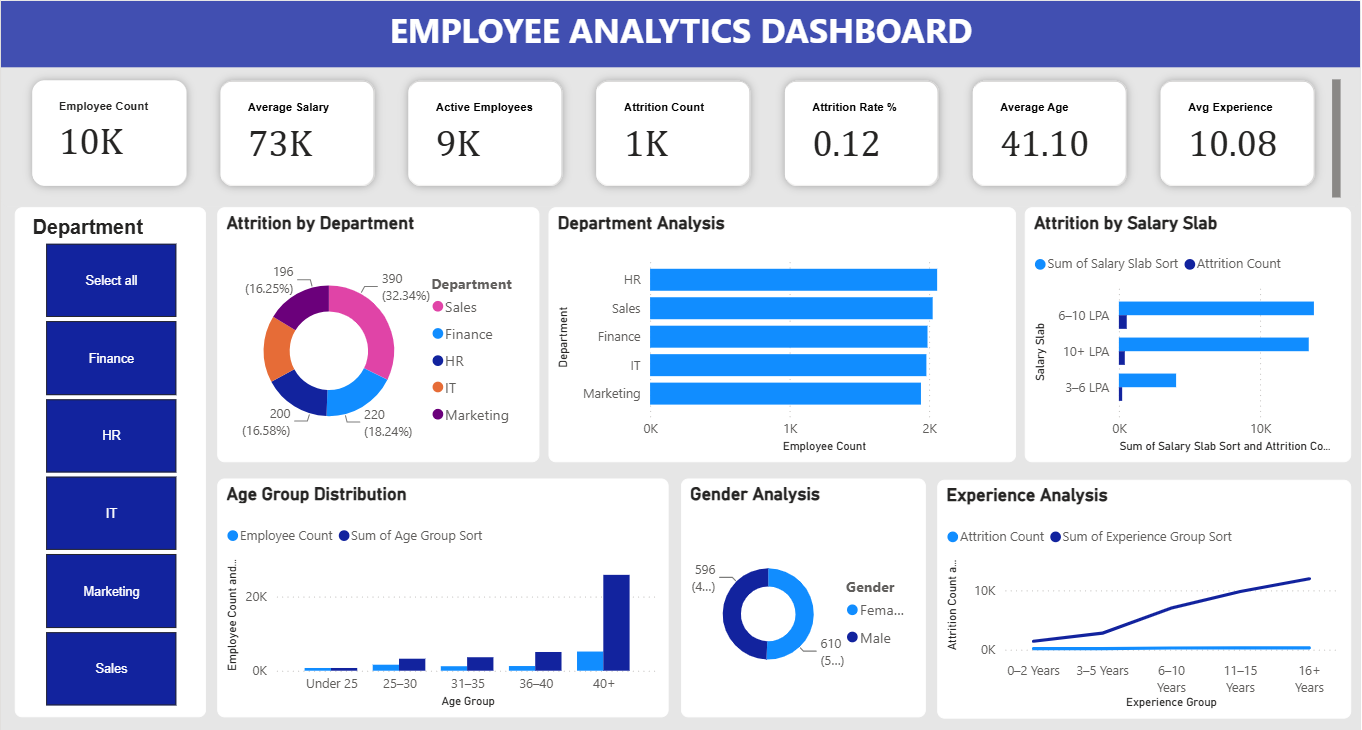

What the dashboard file says about the page in this screenshot:
{"tool":"powerbi","page":{"name":"Page 1","canvas":[1280,720],"ordinal":0},"visuals":[{"type":"cardVisual","fields":{"Data":["employee_data_cleaned.Employee Count","employee_data_cleaned.Average Salary","employee_data_cleaned.Active Employees","employee_data_cleaned.Attrition Count","employee_data_cleaned.Attrition Rate %","employee_data_cleaned.Average Age","employee_data_cleaned.Average Experience"]},"box":[0,52.9,1280,141.2],"z":0},{"type":"barChart","title":"Department Analysis","fields":{"Category":["employee_data_cleaned.Department"],"Y":["employee_data_cleaned.Employee Count"]},"box":[515.3,194.1,440,196.5],"z":1000},{"type":"donutChart","title":"Gender Analysis","fields":{"Category":["employee_data_cleaned.Gender"],"Y":["employee_data_cleaned.Attrition Count"]},"box":[640,404.7,230.6,224.7],"z":2000},{"type":"clusteredBarChart","title":"Attrition by Salary Slab","fields":{"Y":["employee_data_cleaned.Attrition Count","Sum(employee_data_cleaned.Salary Slab Sort)"],"Category":["employee_data_cleaned.Salary Slab"]},"box":[963.5,194.1,307.1,197.6],"z":3000},{"type":"donutChart","title":"Attrition by Department","fields":{"Category":["employee_data_cleaned.Department"],"Y":["employee_data_cleaned.Attrition Count"]},"box":[203.5,194.1,303.5,197.6],"z":4000},{"type":"slicer","fields":{"Values":["employee_data_cleaned.Department"]},"box":[12.9,194.1,172.9,435.3],"z":5000},{"type":"textbox","box":[0,0,1280,70.6],"z":6000},{"type":"lineChart","title":"Experience Analysis","fields":{"Category":["employee_data_cleaned.Experience Group"],"Y":["employee_data_cleaned.Attrition Count","Sum(employee_data_cleaned.Experience Group Sort)"]},"box":[878.8,404.7,401.2,224.7],"z":7000},{"type":"clusteredColumnChart","title":"Age Group Distribution","fields":{"Category":["employee_data_cleaned.Age Group"],"Y":["employee_data_cleaned.Employee Count","Sum(employee_data_cleaned.Age Group Sort)"]},"box":[203.5,404.7,424.7,224.7],"z":8000}]}

Visuals, with their boxes on the page's 1280x720 design canvas (x1, y1, x2, y2). These are canvas units, not pixel positions in the 1362x730 screenshot, which may show the page scaled, cropped or inside an application window:
cardVisual - employee_data_cleaned.Employee Count x employee_data_cleaned.Average Salary: (left=0, top=53, right=1280, bottom=194)
"Department Analysis" barChart: (left=515, top=194, right=955, bottom=391)
"Gender Analysis" donutChart: (left=640, top=405, right=871, bottom=629)
"Attrition by Salary Slab" clusteredBarChart: (left=964, top=194, right=1271, bottom=392)
"Attrition by Department" donutChart: (left=204, top=194, right=507, bottom=392)
slicer - employee_data_cleaned.Department: (left=13, top=194, right=186, bottom=629)
textbox: (left=0, top=0, right=1280, bottom=71)
"Experience Analysis" lineChart: (left=879, top=405, right=1280, bottom=629)
"Age Group Distribution" clusteredColumnChart: (left=204, top=405, right=628, bottom=629)
